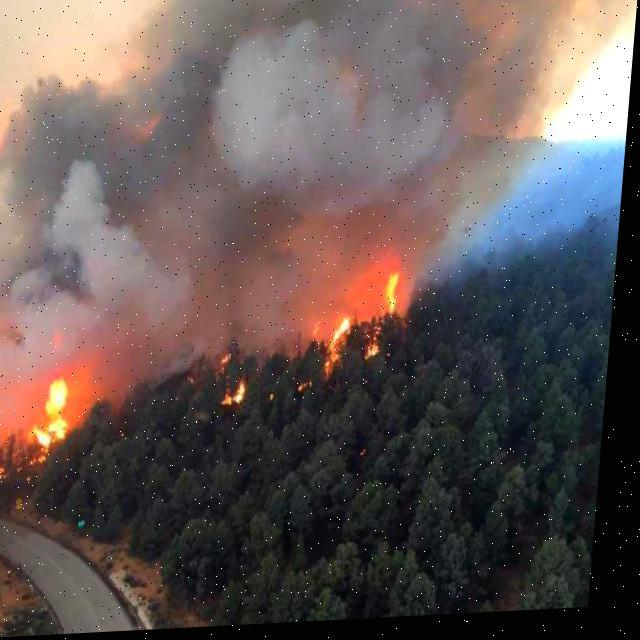Fire: (0, 143, 468, 516)
